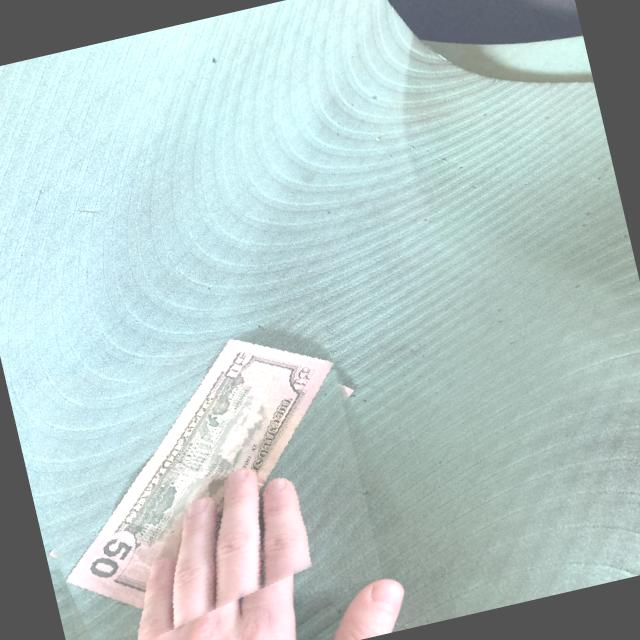fifty: (65, 301, 334, 640)
